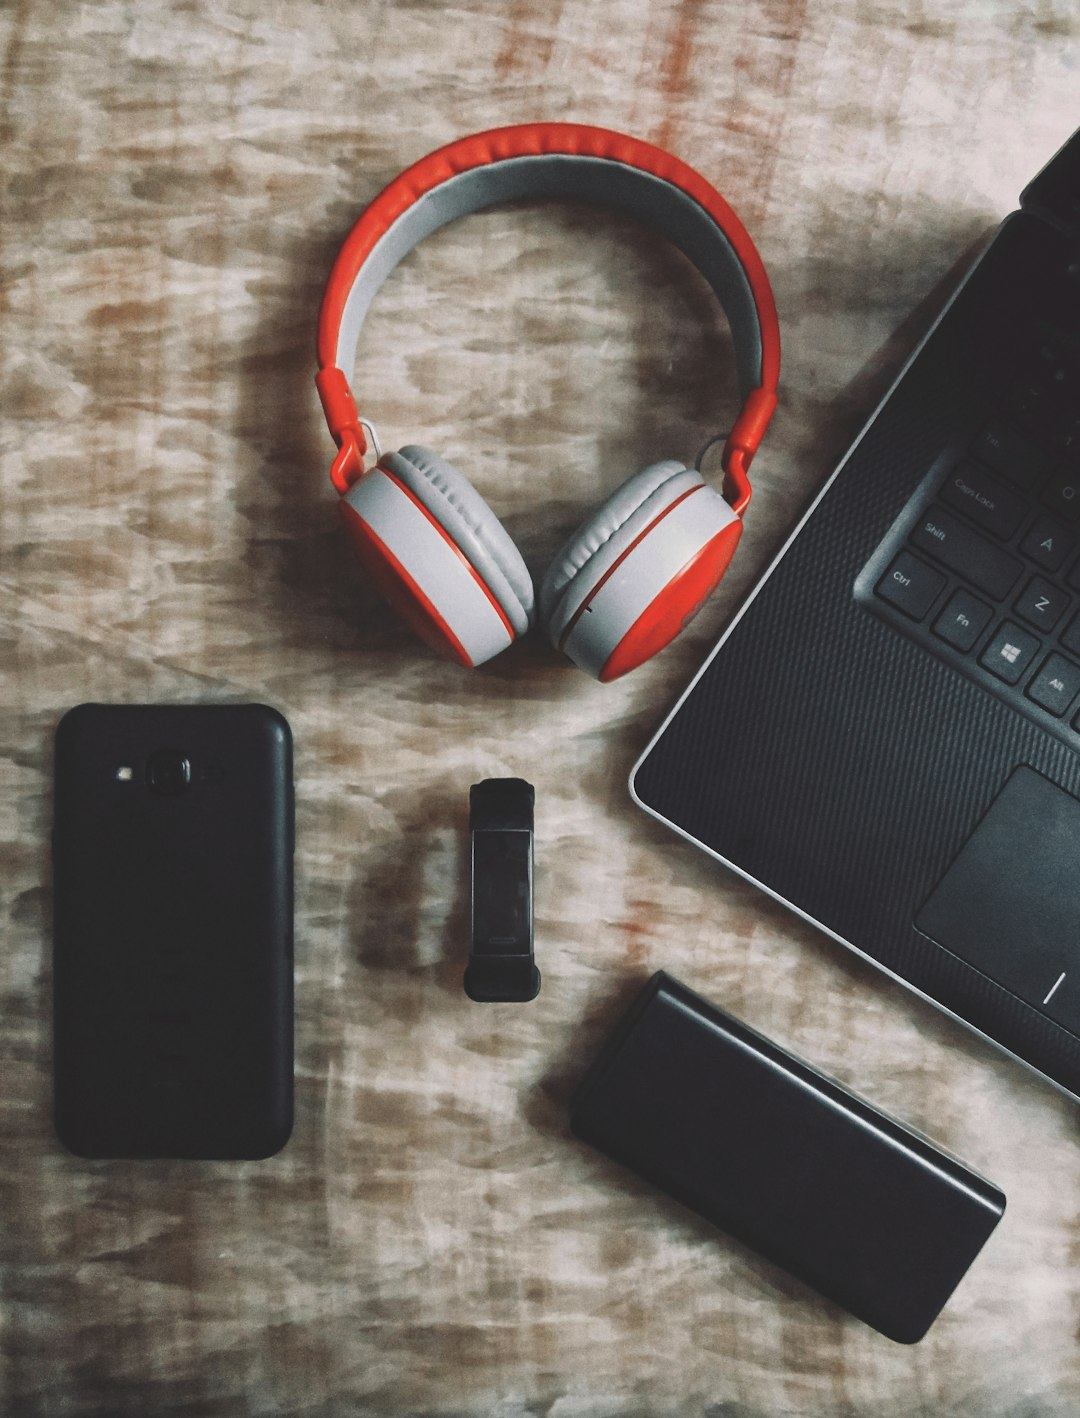phone: (49, 704, 297, 1163)
